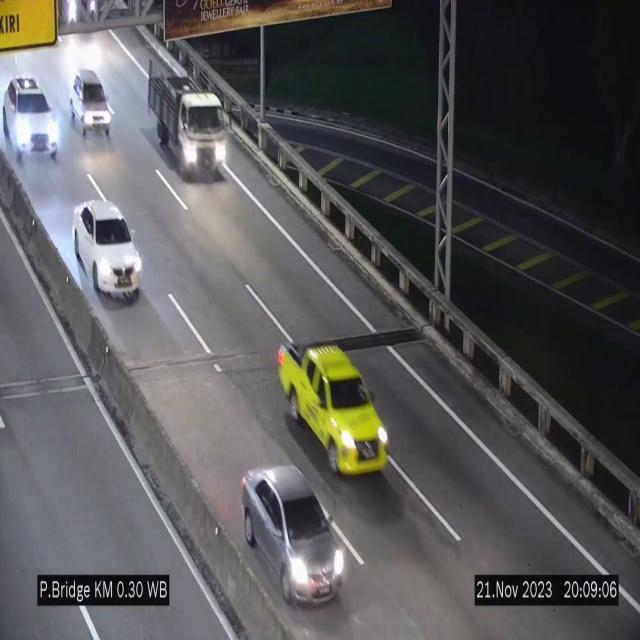Car: (241, 466, 345, 604), (278, 342, 389, 471), (74, 199, 142, 301), (0, 76, 60, 166), (70, 72, 111, 141)
Truck: (148, 50, 226, 180)
